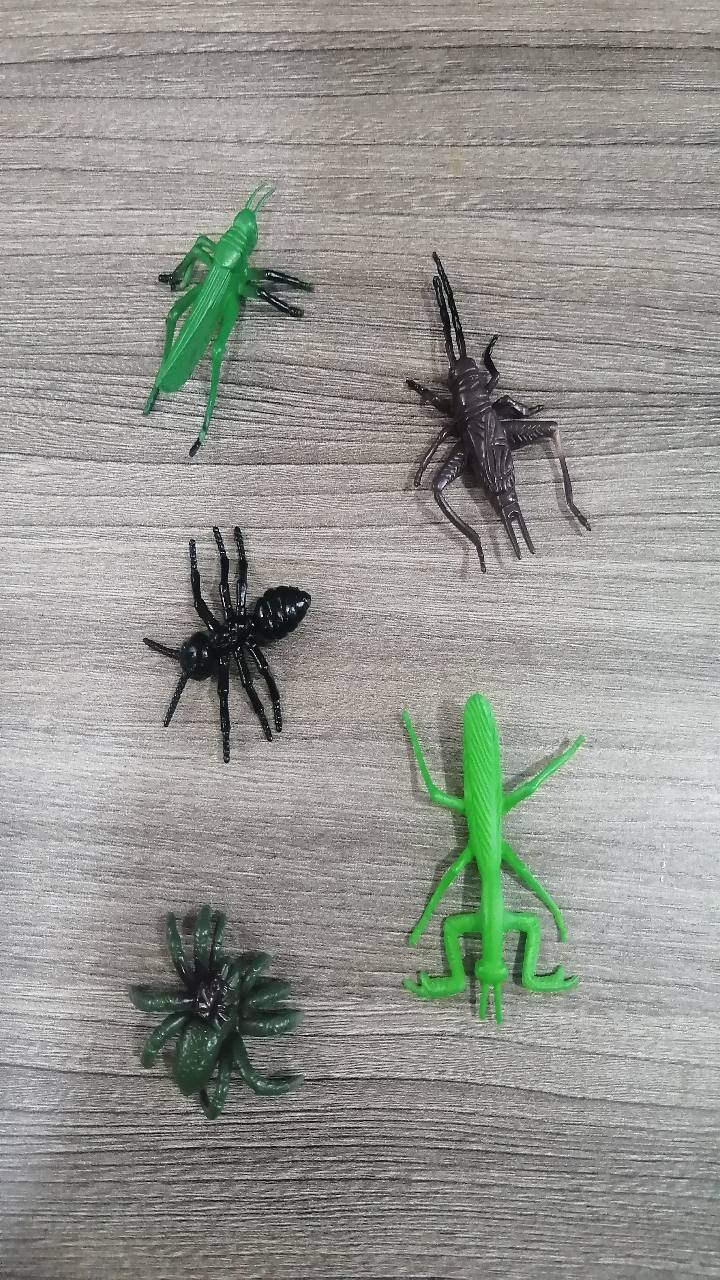intruso: (371, 654, 611, 1034), (378, 225, 611, 589), (106, 163, 318, 480), (106, 871, 324, 1142), (117, 499, 332, 766)
